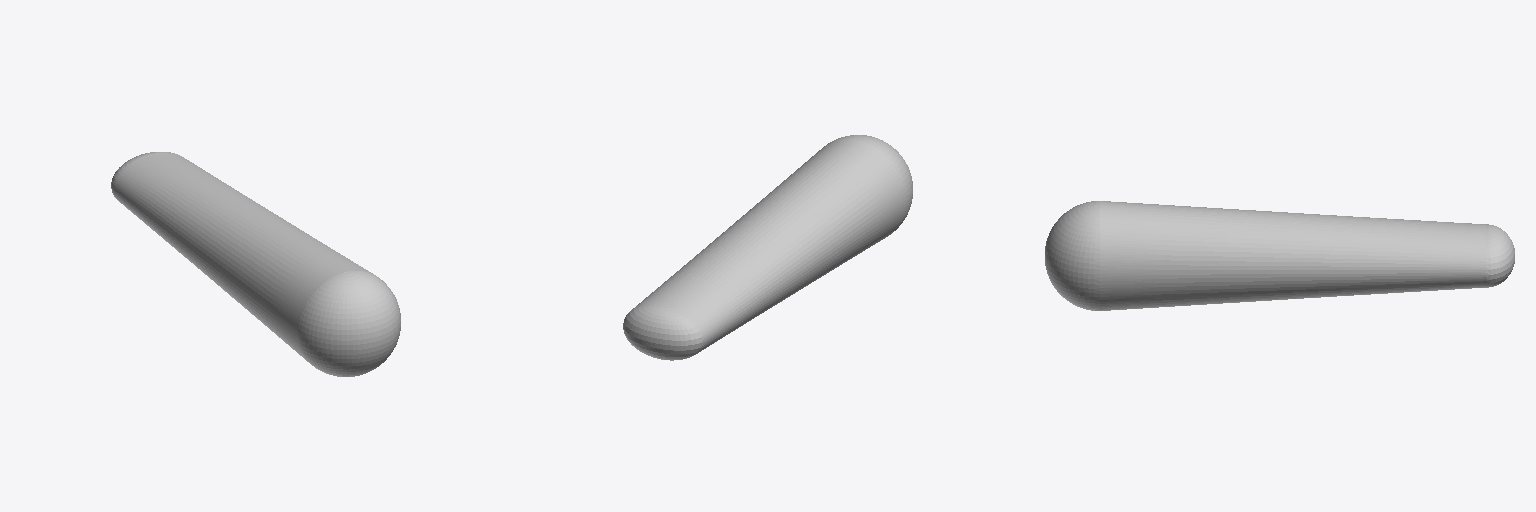
Rendered from LLowerLeg2.obj.
3 views of the same model, side by side, from view 1: azimuth 30°, elevation 25°; view 2: azimuth 150°, elevation 25°; view 3: azimuth 270°, elevation 25° (orthographic).
Bounding box in the file's own units: 0.0999 × 0.1 × 0.4265.